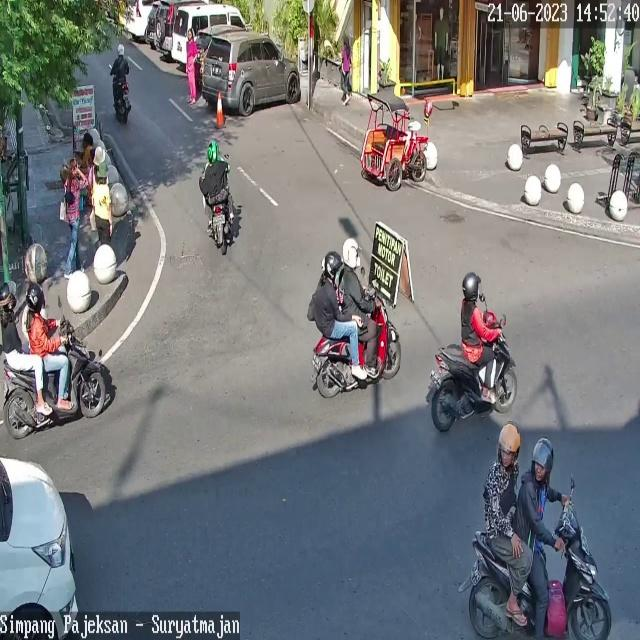bus: (457, 498, 612, 640), (0, 315, 107, 439), (426, 309, 519, 433), (310, 286, 403, 398), (209, 198, 234, 255), (114, 82, 131, 121)
motorcycle: (0, 458, 78, 640), (203, 31, 300, 115), (172, 4, 247, 64), (190, 28, 213, 83), (154, 0, 175, 54), (124, 0, 151, 35)
